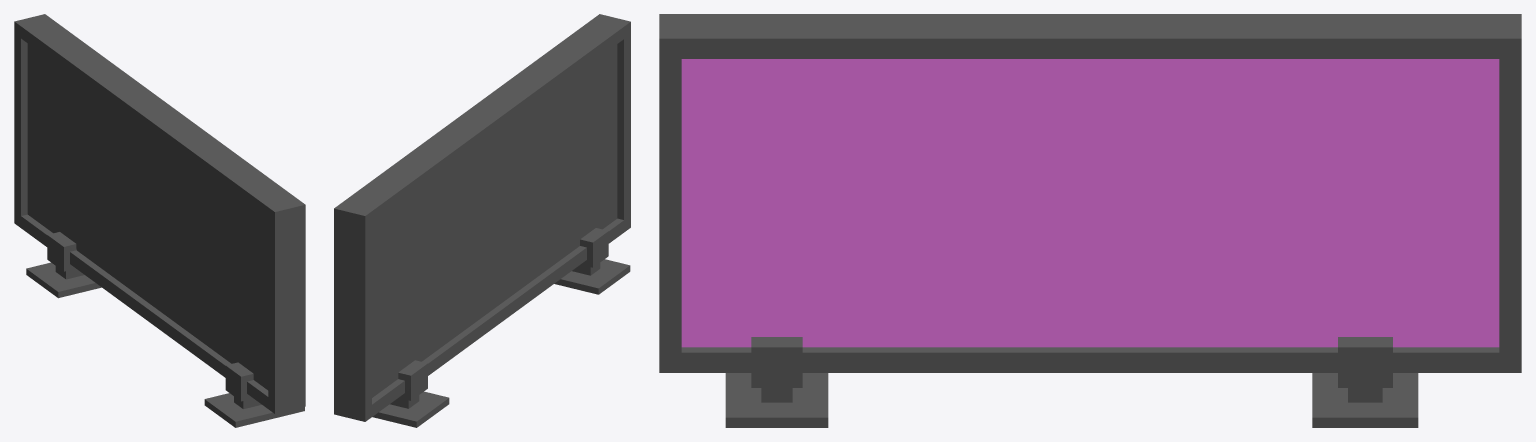
File: FoodStandSign.fbx
The picture shows the model from 3 angles, left to right: view 1: azimuth 30°, elevation 25°; view 2: azimuth 150°, elevation 25°; view 3: azimuth 270°, elevation 25°; orthographic projection. The views are drawn at different scales.
Visible parts, largest first — view 1: Billboard; view 2: Billboard; view 3: Billboard.
Boxes of the visible parts, left/top/right/bottom form: Billboard: left=14, top=14, right=305, bottom=427; Billboard: left=334, top=14, right=630, bottom=427; Billboard: left=659, top=14, right=1521, bottom=427.
Size of the model in its own units: 1.58 by 4.91 by 10.26.
